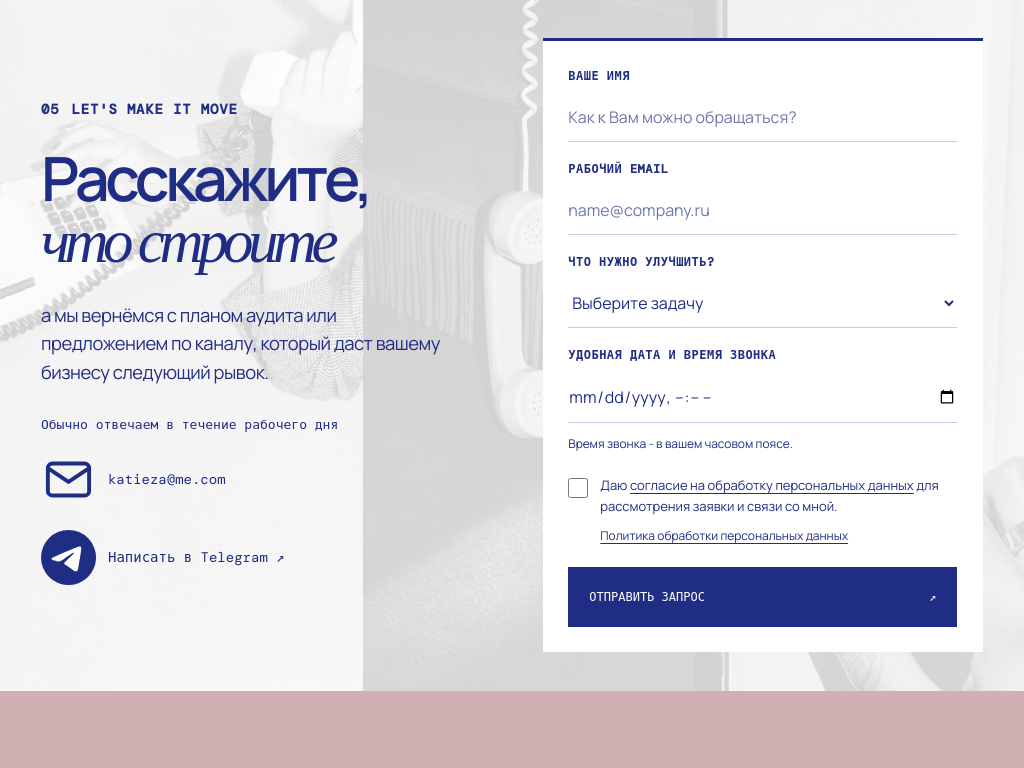
Test: blocks repeated clicks while sending and preserves fields on error
Type " Катя " into the field labelled "Ваше имя".
click(763, 118); type(" Катя ")  # box [568,93,957,142]
Type "kate@example.com" into the field labelled "Рабочий email".
click(763, 210); type("kate@example.com")  # box [568,186,957,235]
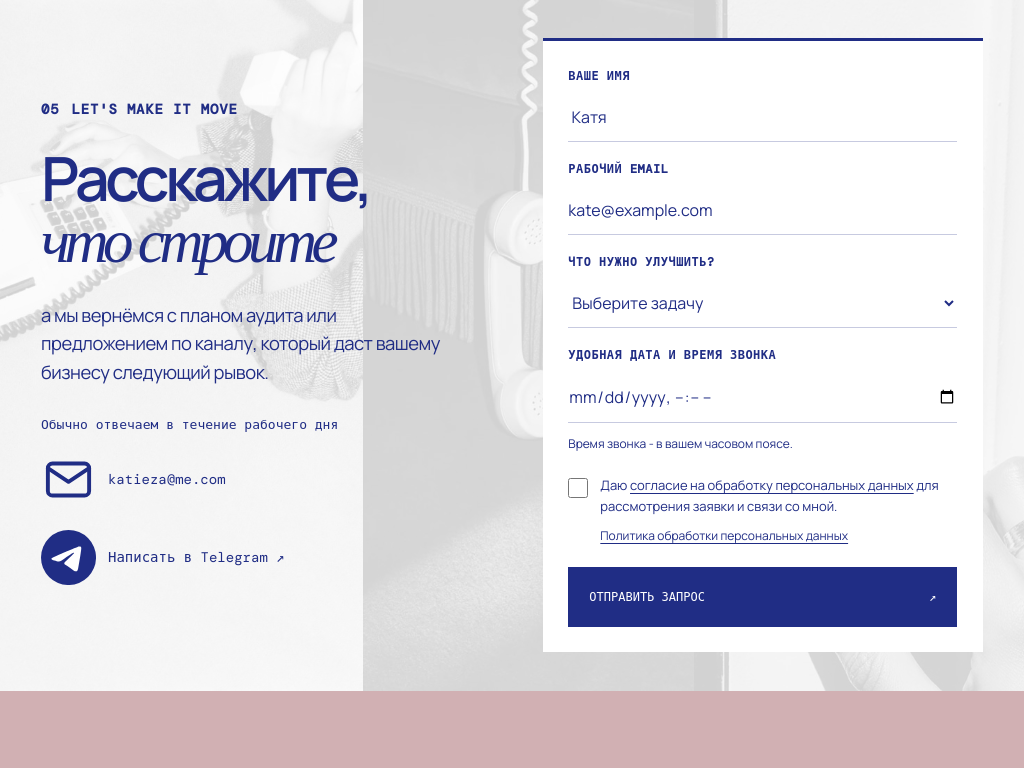
Select "аудит текущей рекламной кампании" in the dropdown labelled "Что нужно улучшить?" at x=763, y=304, box [568,279,957,328]
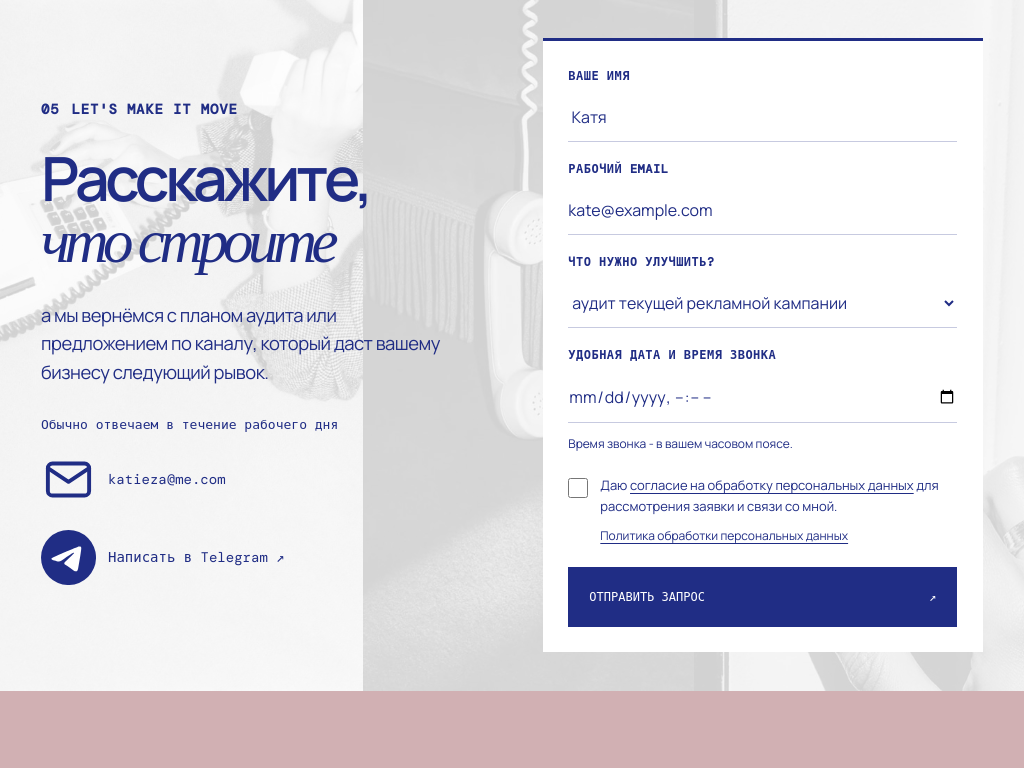
Type "2099-01-01T12:00" into the field labelled "Удобная дата и время звонка".
click(763, 398); type("2099-01-01T12:00")  # box [568,372,957,423]
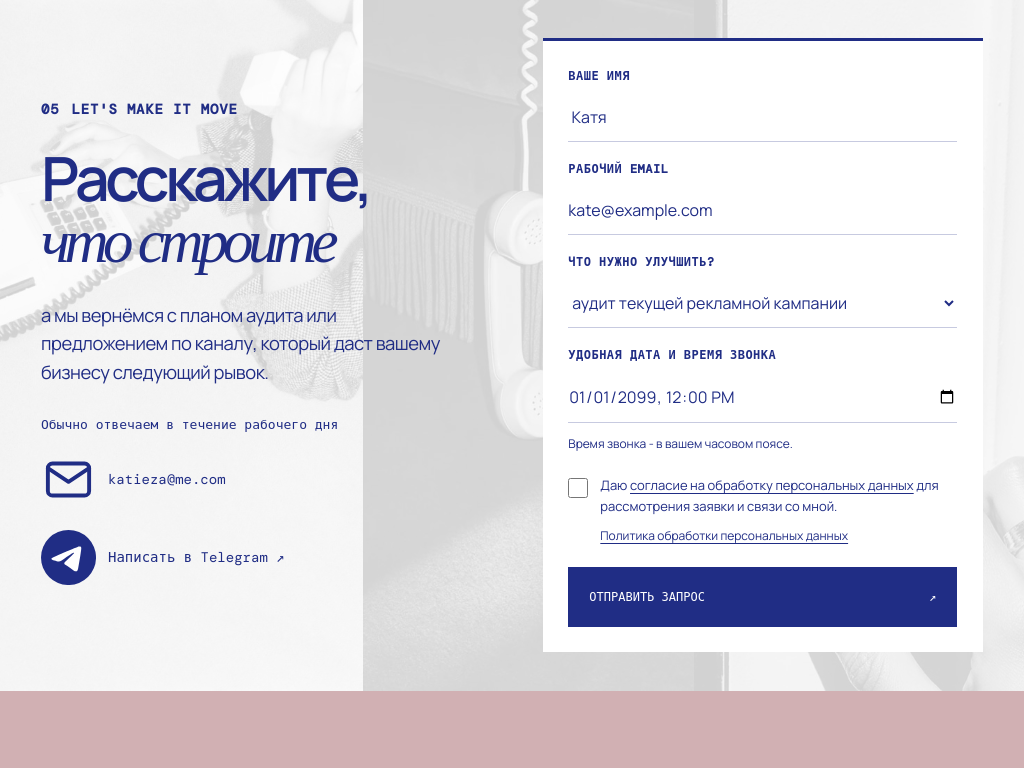
Click the checkbox.
click(578, 488)  # box [568,478,588,498]
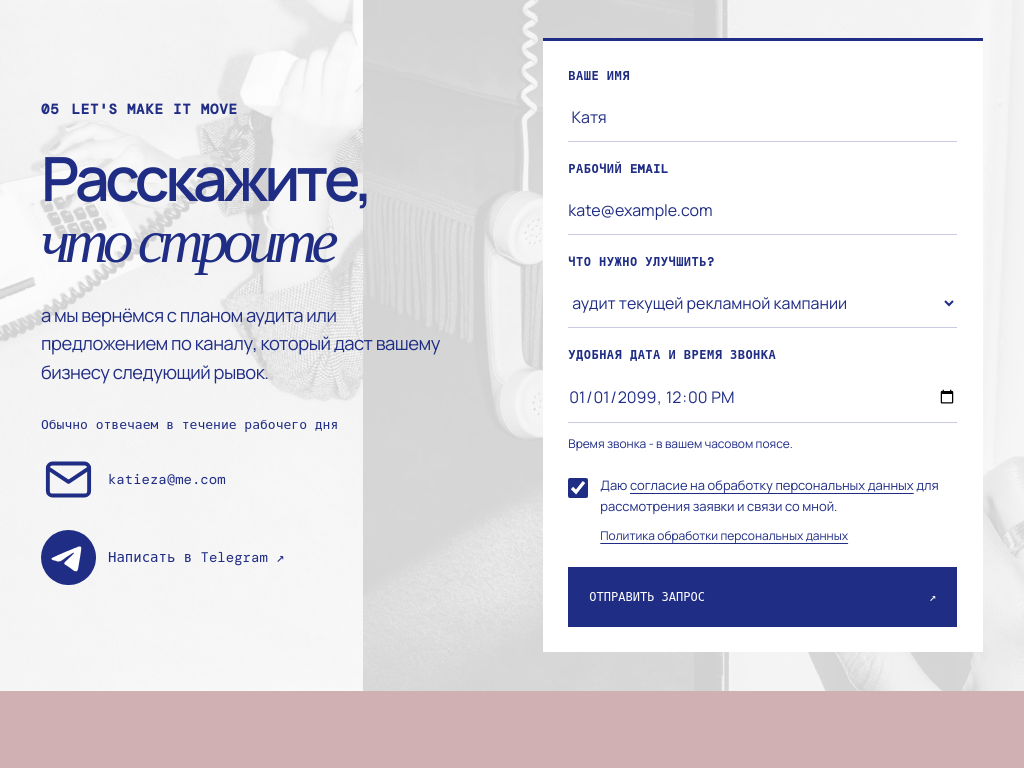
Click the button "Отправить запрос ↗".
click(647, 597)  # box [568,567,957,627]
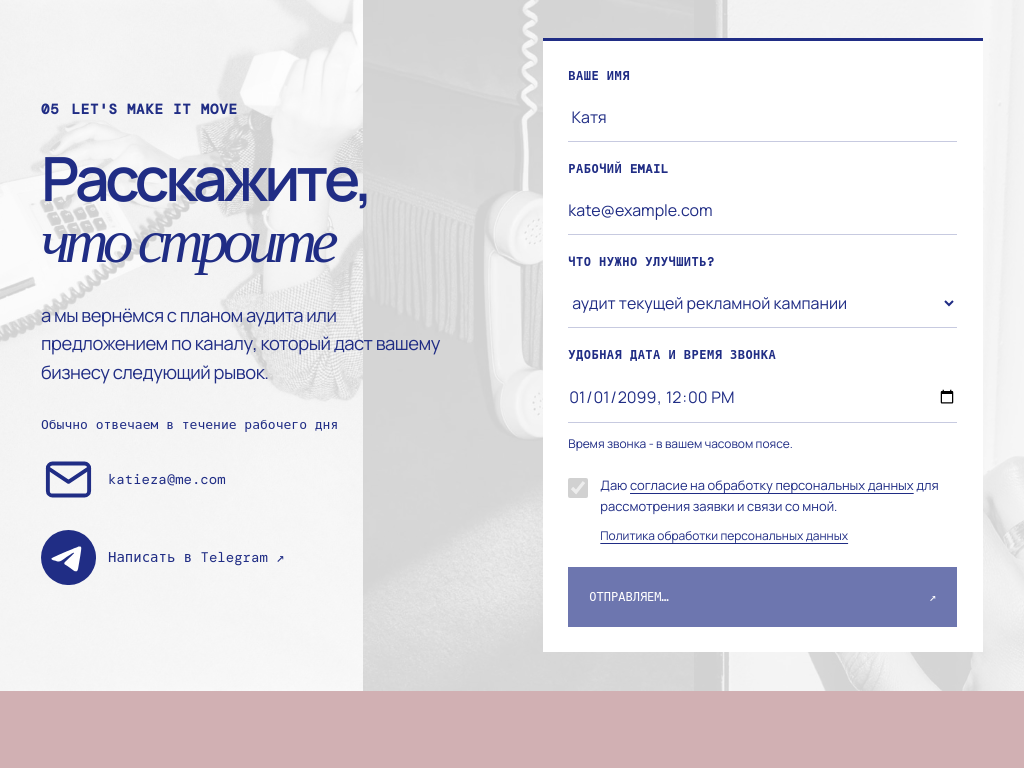
Expected: the button "Отправляем… ↗" is disabled
Click the button "Отправляем… ↗".
click(629, 597)  # box [568,567,957,627]
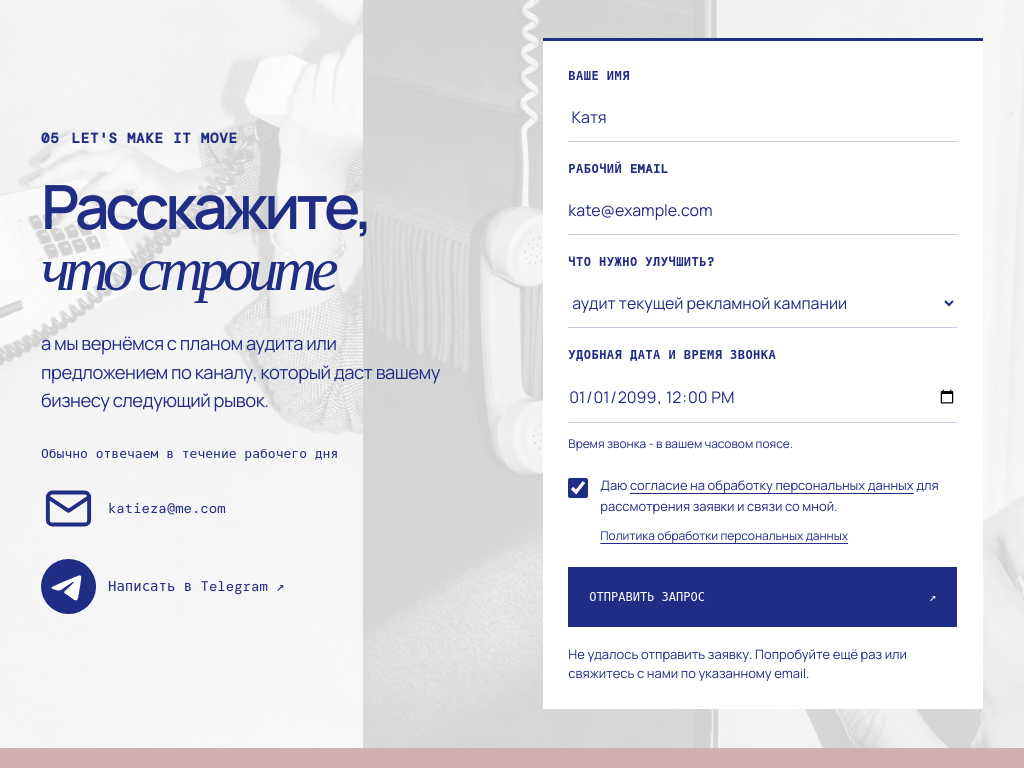
Expected: the checkbox is checked, [568,478,588,498]
Expected: the text "Не удалось отправить заявку" is shown, [568,645,907,682]
Expected: the button "Отправить запрос ↗" is enabled, [568,567,957,627]
